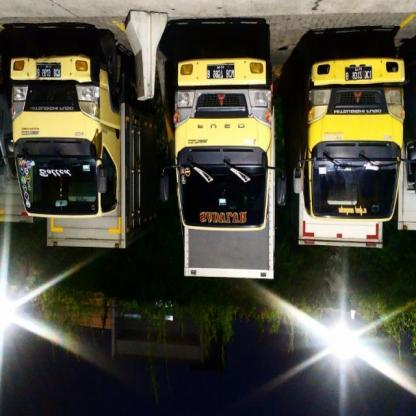truck: (9, 47, 147, 265), (175, 56, 277, 287), (296, 50, 407, 256)
